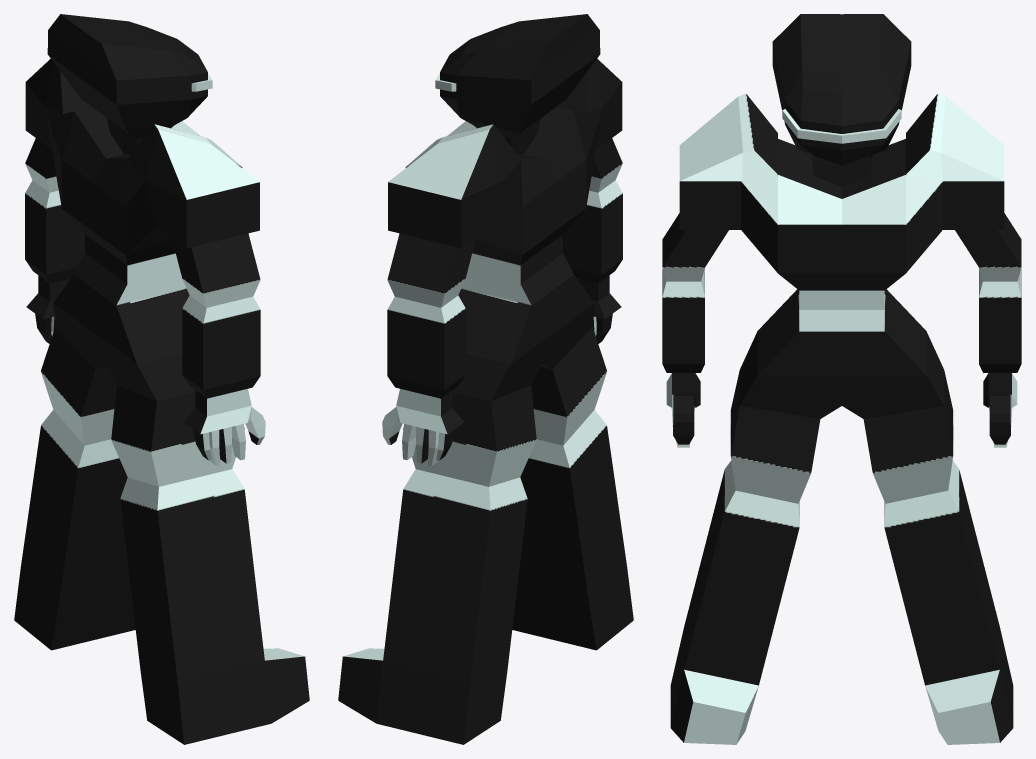
File: robot.fbx
3 renders of one model, left to right at view 1: azimuth 30°, elevation 25°; view 2: azimuth 150°, elevation 25°; view 3: azimuth 270°, elevation 25°, orthographic.
Parts seen in each view (by area): view 1: Robot; view 2: Robot; view 3: Robot.
Part boxes in pixels (x1,y1,x2,y2): Robot: (14, 14, 309, 744); Robot: (338, 14, 633, 744); Robot: (662, 14, 1021, 744).
Size of the model in its own units: 211 by 102 by 431.
Materials: 1 (1 with a texture image).
